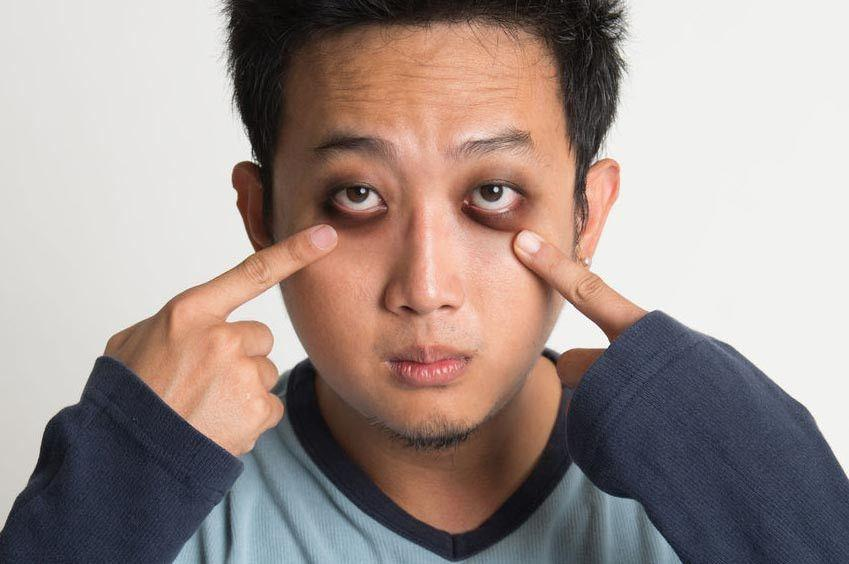Eyebags: (449, 165, 544, 233), (315, 174, 393, 240)
